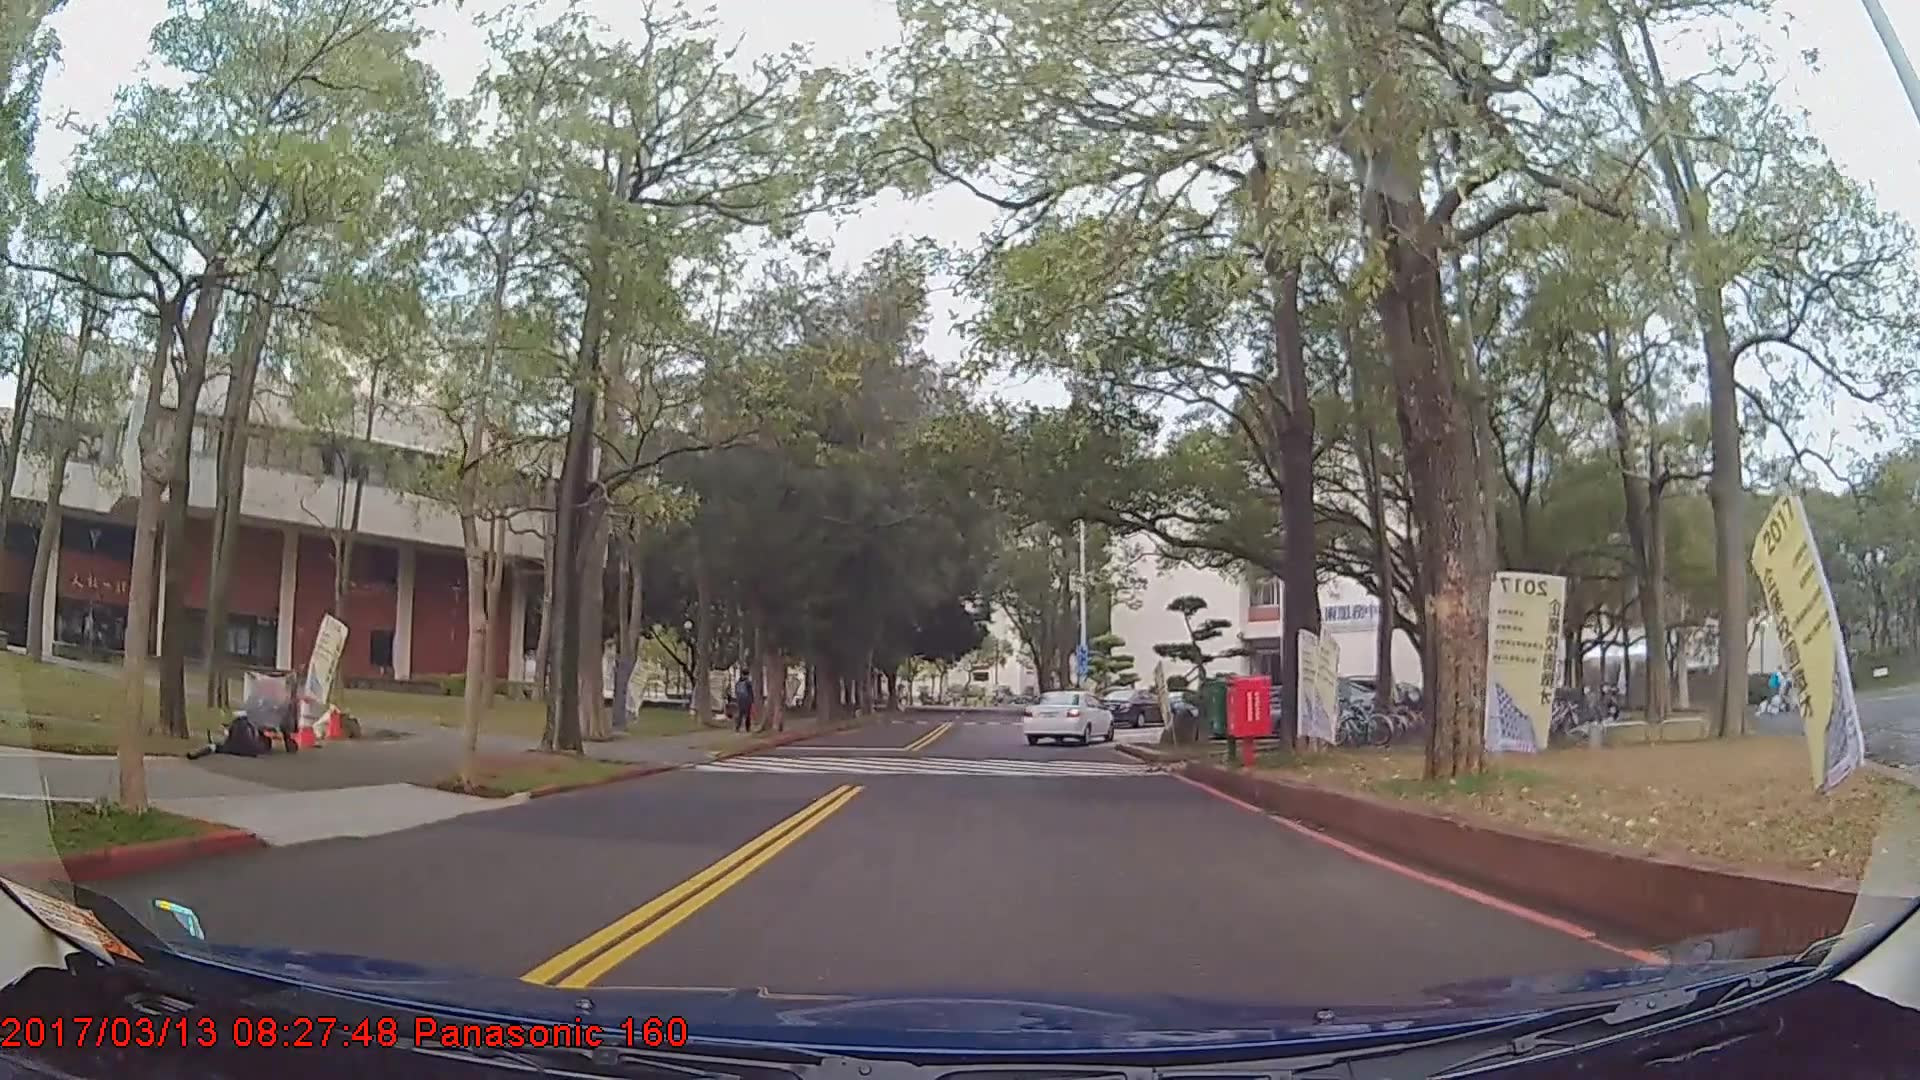pedestrian: (734, 667, 758, 730)
vehicle: (1023, 687, 1112, 747), (1096, 684, 1174, 726)
